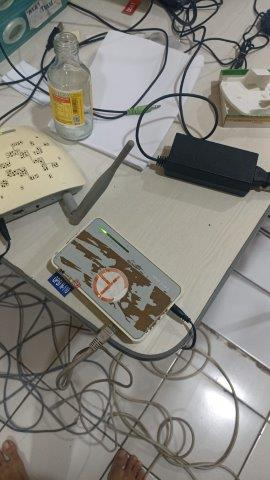botolkaca: (46, 30, 95, 142)
kertas: (38, 28, 201, 172)
